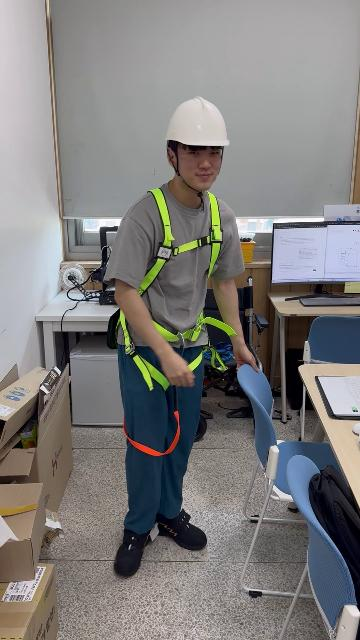helmet_worn: (164, 96, 232, 149)
shoe_worn: (155, 508, 206, 551), (114, 527, 153, 577)
vest_worn: (115, 190, 238, 396)
